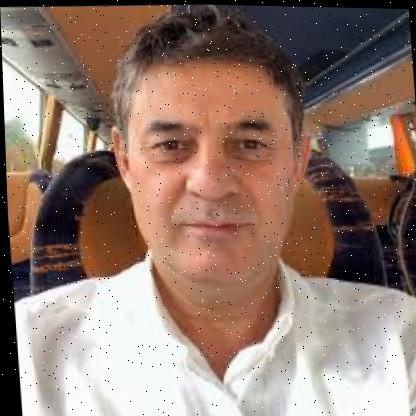person: (102, 4, 323, 299)
